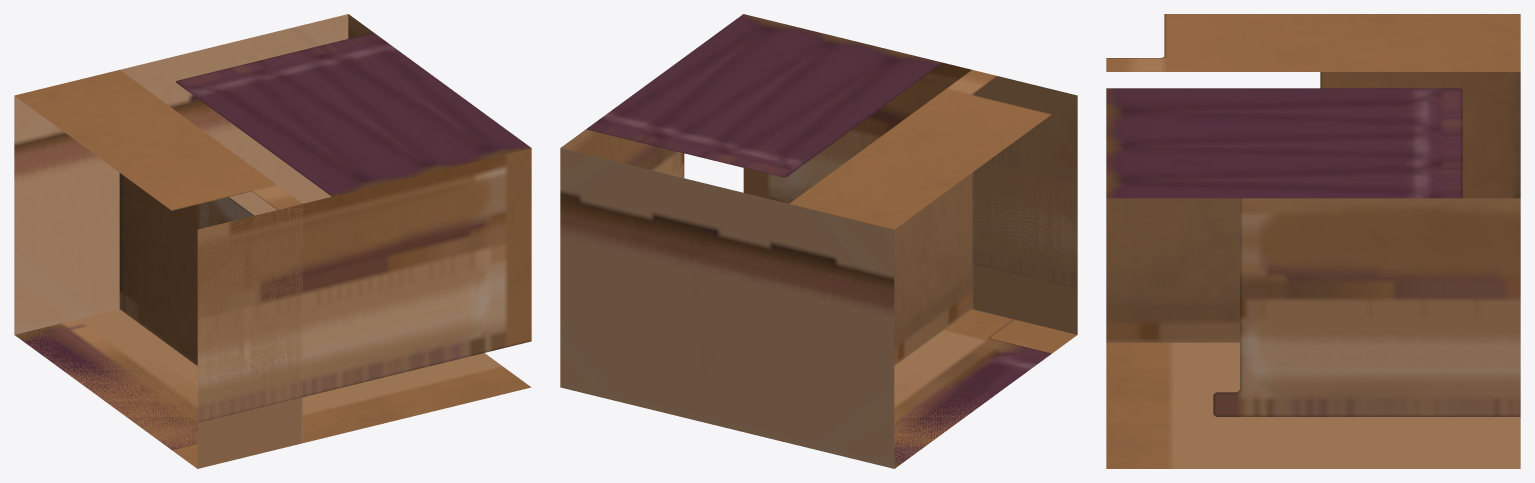
Rendered from section-7.obj.
The picture shows the model from 3 angles, left to right: view 1: azimuth 30°, elevation 25°; view 2: azimuth 150°, elevation 25°; view 3: azimuth 270°, elevation 25°; orthographic projection. The views are drawn at different scales.
Bounding box in the file's own units: 1.02 × 0.6972 × 0.967.
